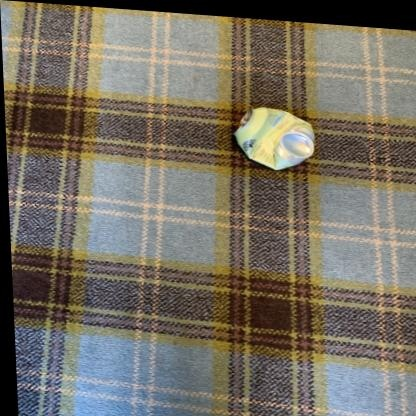trash: (234, 107, 313, 169)
